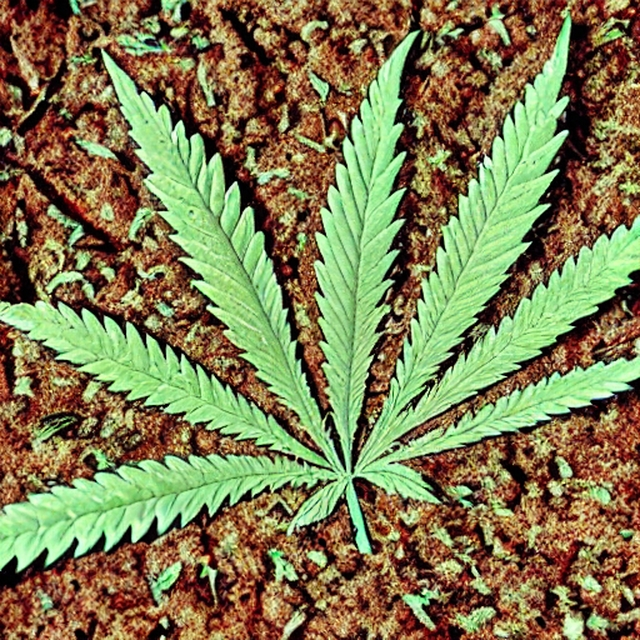Marijuana Leaf: (0, 12, 640, 580)
